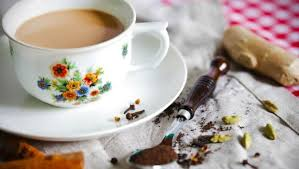cup: (1, 1, 174, 109)
